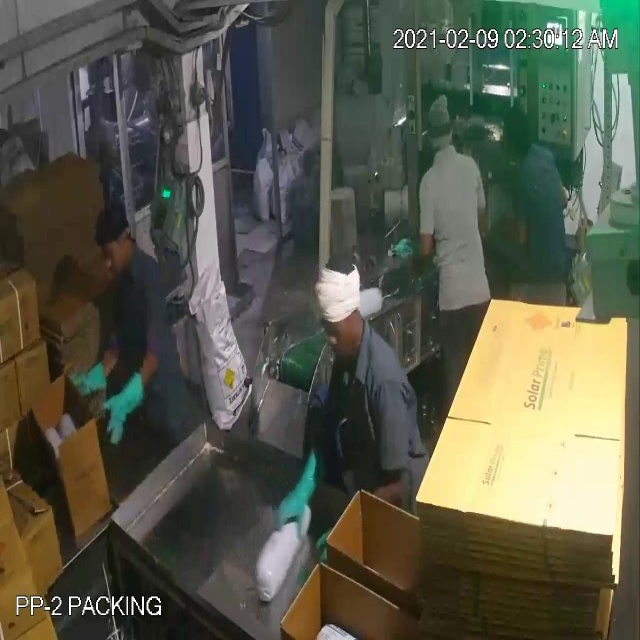Guantes: (266, 428, 326, 548), (98, 365, 152, 446), (64, 354, 113, 403)
